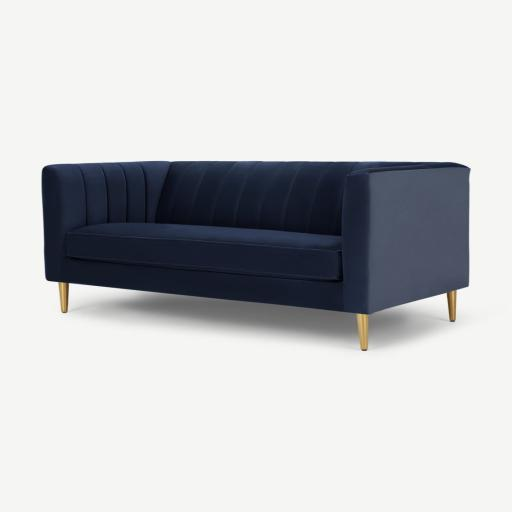back_cushion: (157, 162, 356, 235), (187, 240, 213, 246)
base: (61, 257, 352, 312)
left_arm: (342, 168, 469, 313)
legs: (357, 314, 368, 351), (59, 282, 68, 313), (448, 292, 455, 318)
one-seater: (42, 161, 470, 351)
right_arm: (43, 161, 170, 280)
seat_cushion: (65, 223, 342, 281)
